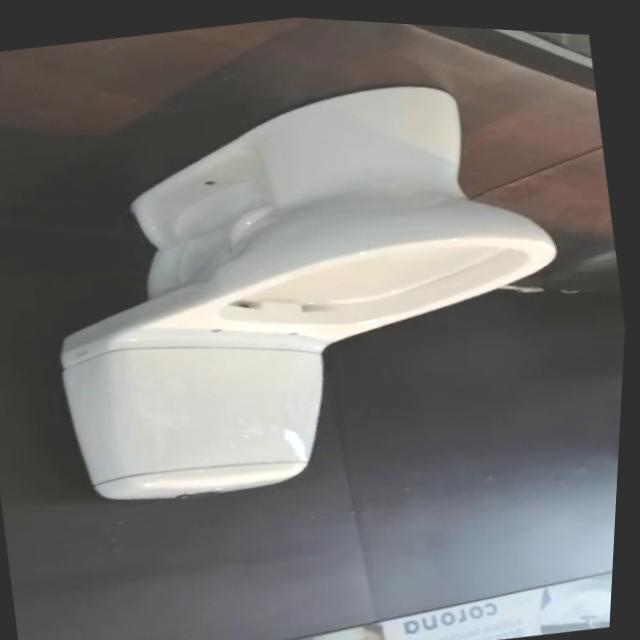toilet: (16, 39, 603, 534)
